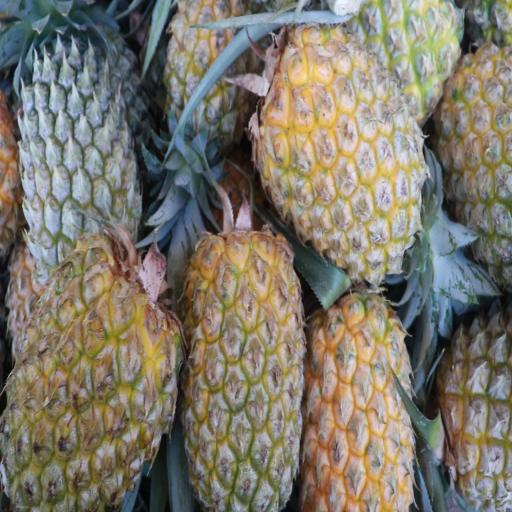------------------------------: (166, 0, 258, 149)
Pineapple - v8 v1: (0, 242, 180, 512), (259, 14, 423, 275), (186, 238, 303, 511), (304, 293, 407, 512), (364, 0, 461, 112)
